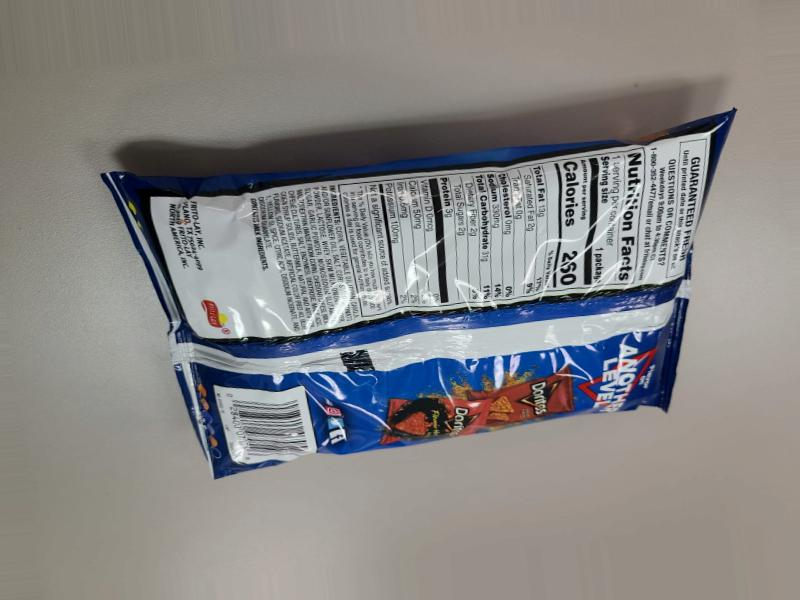doritos: (159, 139, 764, 460)
